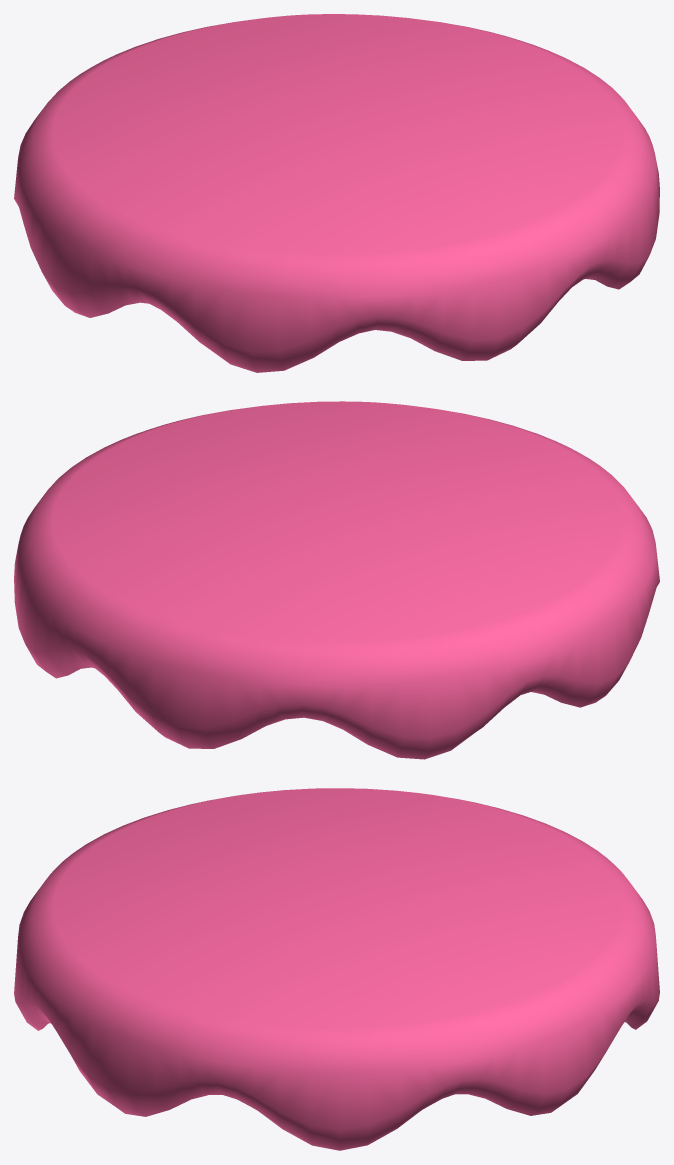
The model's file is Cake_Sml_itemsTop_icing-thick.FBX.
3 renders of one model, top to bottom at view 1: azimuth 30°, elevation 25°; view 2: azimuth 150°, elevation 25°; view 3: azimuth 270°, elevation 25°, orthographic.
Parts seen in each view (by area): view 1: Cake_Sml_itemsTop_icing-thick; view 2: Cake_Sml_itemsTop_icing-thick; view 3: Cake_Sml_itemsTop_icing-thick.
Boxes of the visible parts, left/top/right/bottom form: Cake_Sml_itemsTop_icing-thick: left=14, top=14, right=659, bottom=372; Cake_Sml_itemsTop_icing-thick: left=14, top=401, right=659, bottom=759; Cake_Sml_itemsTop_icing-thick: left=14, top=788, right=659, bottom=1150.
Bounding box in the file's own units: 5093 × 1011 × 5093.
